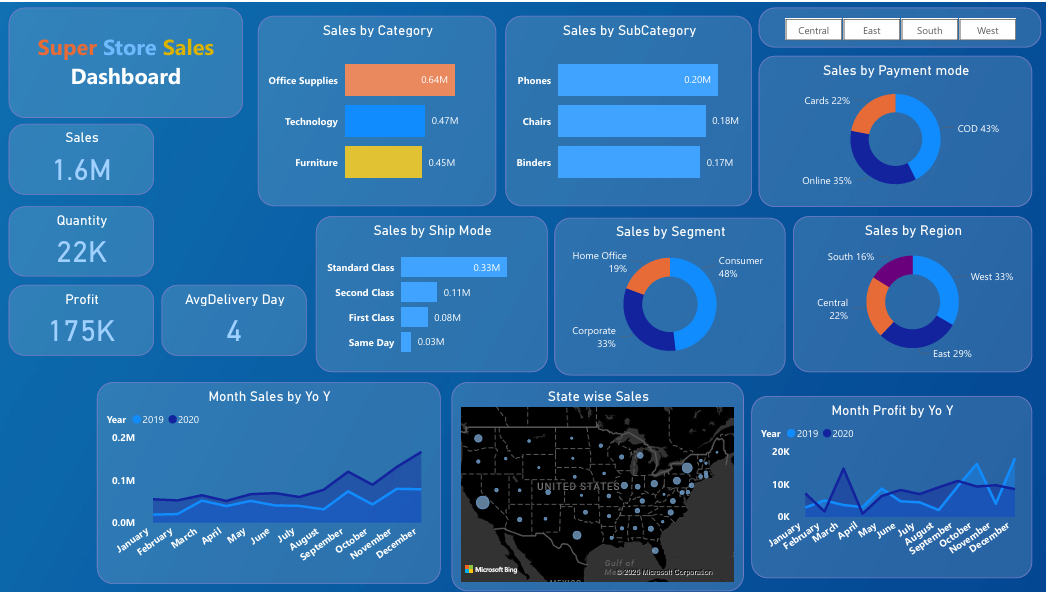

Layout of this report page (visuals, bound fields, positions):
{"tool":"powerbi","page":{"name":"Page 1","canvas":[1280,720],"ordinal":0},"visuals":[{"type":"clusteredBarChart","title":"Sales by Category","fields":{"Category":["SuperStore_Sales_Dataset.Category"],"Y":["Sum(SuperStore_Sales_Dataset.Sales)"]},"box":[316.1,15.7,292,232.8],"z":0},{"type":"clusteredBarChart","title":"Sales by SubCategory","fields":{"Category":["SuperStore_Sales_Dataset.Sub-Category"],"Y":["Sum(SuperStore_Sales_Dataset.Sales)"]},"box":[618.9,15.7,301.6,232.8],"z":1000},{"type":"clusteredBarChart","title":"Sales by Ship Mode","fields":{"Category":["SuperStore_Sales_Dataset.Ship Mode"],"Y":["Sum(SuperStore_Sales_Dataset.Sales)"]},"box":[387.3,260.6,283.5,191.8],"z":2000},{"type":"areaChart","title":"Month Sales by Yo Y","fields":{"Category":["SuperStore_Sales_Dataset.Order Date.Variation.Date Hierarchy.Month","SuperStore_Sales_Dataset.Order Date.Variation.Date Hierarchy.Day"],"Y":["Sum(SuperStore_Sales_Dataset.Sales)"],"Series":["SuperStore_Sales_Dataset.Order Date.Variation.Date Hierarchy.Year"]},"box":[119.4,464.5,421,246.1],"z":3000},{"type":"areaChart","title":"Month Profit by Yo Y","fields":{"Category":["SuperStore_Sales_Dataset.Order Date.Variation.Date Hierarchy.Month","SuperStore_Sales_Dataset.Order Date.Variation.Date Hierarchy.Day"],"Series":["SuperStore_Sales_Dataset.Order Date.Variation.Date Hierarchy.Year"],"Y":["Sum(SuperStore_Sales_Dataset.Profit)"]},"box":[920,481.4,344.3,222.9],"z":4000},{"type":"map","title":"State wise Sales","fields":{"Category":["SuperStore_Sales_Dataset.State"],"Size":["Sum(SuperStore_Sales_Dataset.Sales)"]},"box":[552.5,464.5,358.3,255.8],"z":5000},{"type":"donutChart","title":"Sales by Segment","fields":{"Category":["SuperStore_Sales_Dataset.Segment"],"Y":["Sum(SuperStore_Sales_Dataset.Sales)"]},"box":[679.2,263,282.3,193],"z":6000},{"type":"donutChart","title":"Sales by Payment mode","fields":{"Category":["SuperStore_Sales_Dataset.Payment Mode"],"Y":["Sum(SuperStore_Sales_Dataset.Sales)"]},"box":[929,65.1,335.4,184.6],"z":7000},{"type":"donutChart","title":"Sales by Region","fields":{"Category":["SuperStore_Sales_Dataset.Region"],"Y":["Sum(SuperStore_Sales_Dataset.Sales)"]},"box":[971.2,260.6,293.2,191.8],"z":8000},{"type":"slicer","fields":{"Values":["SuperStore_Sales_Dataset.Region"]},"box":[929,6,346.2,49.5],"z":9000},{"type":"textbox","box":[10.9,6,287.1,135.1],"z":10000},{"type":"card","title":"Sales","fields":{"Values":["Sum(SuperStore_Sales_Dataset.Sales)"]},"box":[10.9,148.4,178.6,86.9],"z":11000},{"type":"card","title":"Profit","fields":{"Values":["Sum(SuperStore_Sales_Dataset.Profit)"]},"box":[10.9,345,178.6,86.9],"z":12000},{"type":"card","title":"Quantity","fields":{"Values":["Sum(SuperStore_Sales_Dataset.Quantity)"]},"box":[10.9,248.5,178.6,86.9],"z":13000},{"type":"card","title":"AvgDelivery Day","fields":{"Values":["Avg(SuperStore_Sales_Dataset.AvgDelivery)"]},"box":[197.9,345,178.6,86.9],"z":14000}]}

Visuals, with their boxes in screenshot pixels (x1, y1, x2, y2), scaled from the page's 1280x720 canvas onto the 1046x593 screenshot:
"Sales by Category" clusteredBarChart: Rect(258, 13, 497, 205)
"Sales by SubCategory" clusteredBarChart: Rect(506, 13, 752, 205)
"Sales by Ship Mode" clusteredBarChart: Rect(316, 215, 548, 373)
"Month Sales by Yo Y" areaChart: Rect(98, 383, 442, 585)
"Month Profit by Yo Y" areaChart: Rect(752, 396, 1033, 580)
"State wise Sales" map: Rect(451, 383, 744, 592)
"Sales by Segment" donutChart: Rect(555, 217, 786, 376)
"Sales by Payment mode" donutChart: Rect(759, 54, 1033, 206)
"Sales by Region" donutChart: Rect(794, 215, 1033, 373)
slicer - SuperStore_Sales_Dataset.Region: Rect(759, 5, 1042, 46)
textbox: Rect(9, 5, 244, 116)
"Sales" card: Rect(9, 122, 155, 194)
"Profit" card: Rect(9, 284, 155, 356)
"Quantity" card: Rect(9, 205, 155, 276)
"AvgDelivery Day" card: Rect(162, 284, 308, 356)
